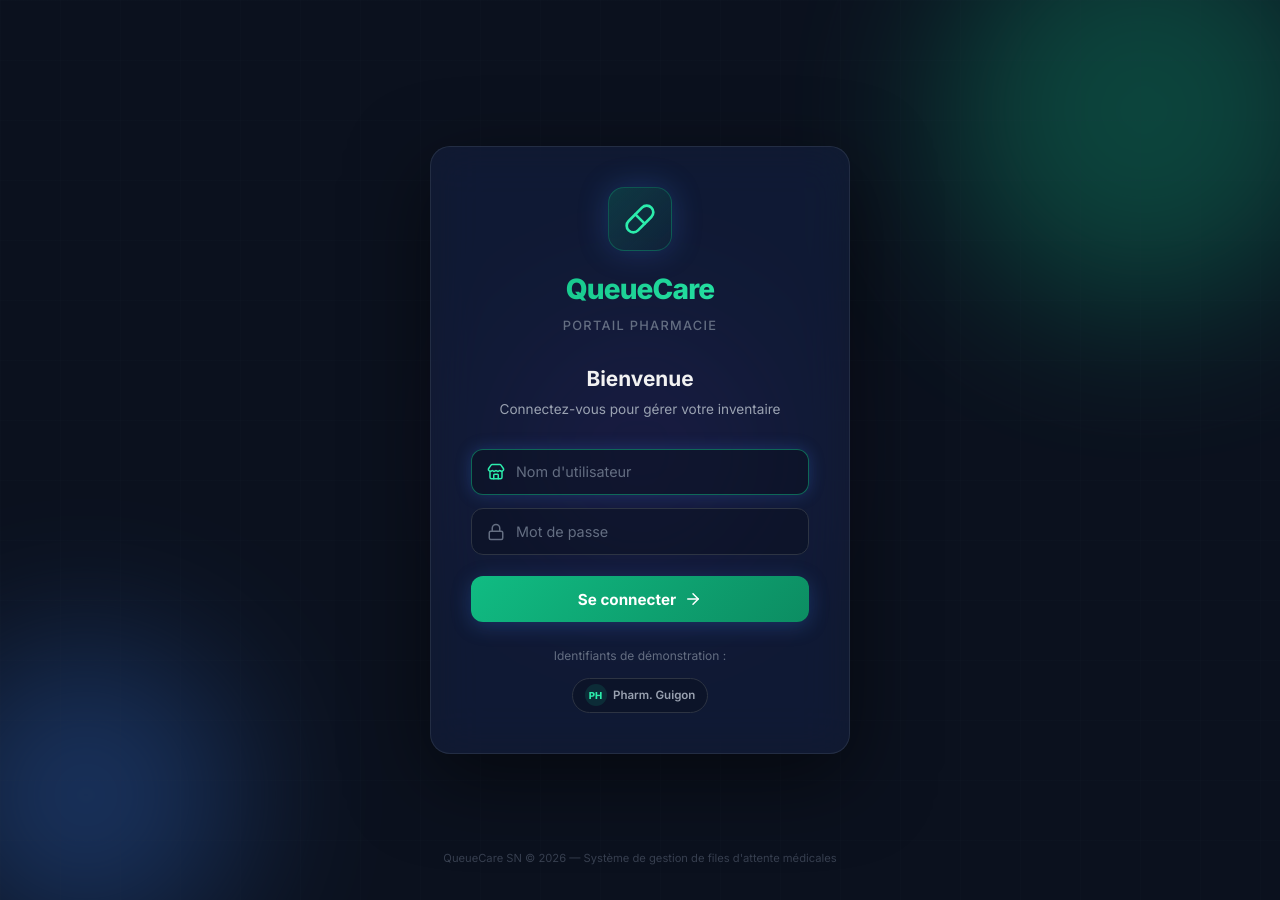
Scenario: LoginScreen (Pharmacie) › gère les erreurs réseau
Type "test" into the field with placeholder "Nom d'utilisateur" at (640, 472), box [471,449,809,495]
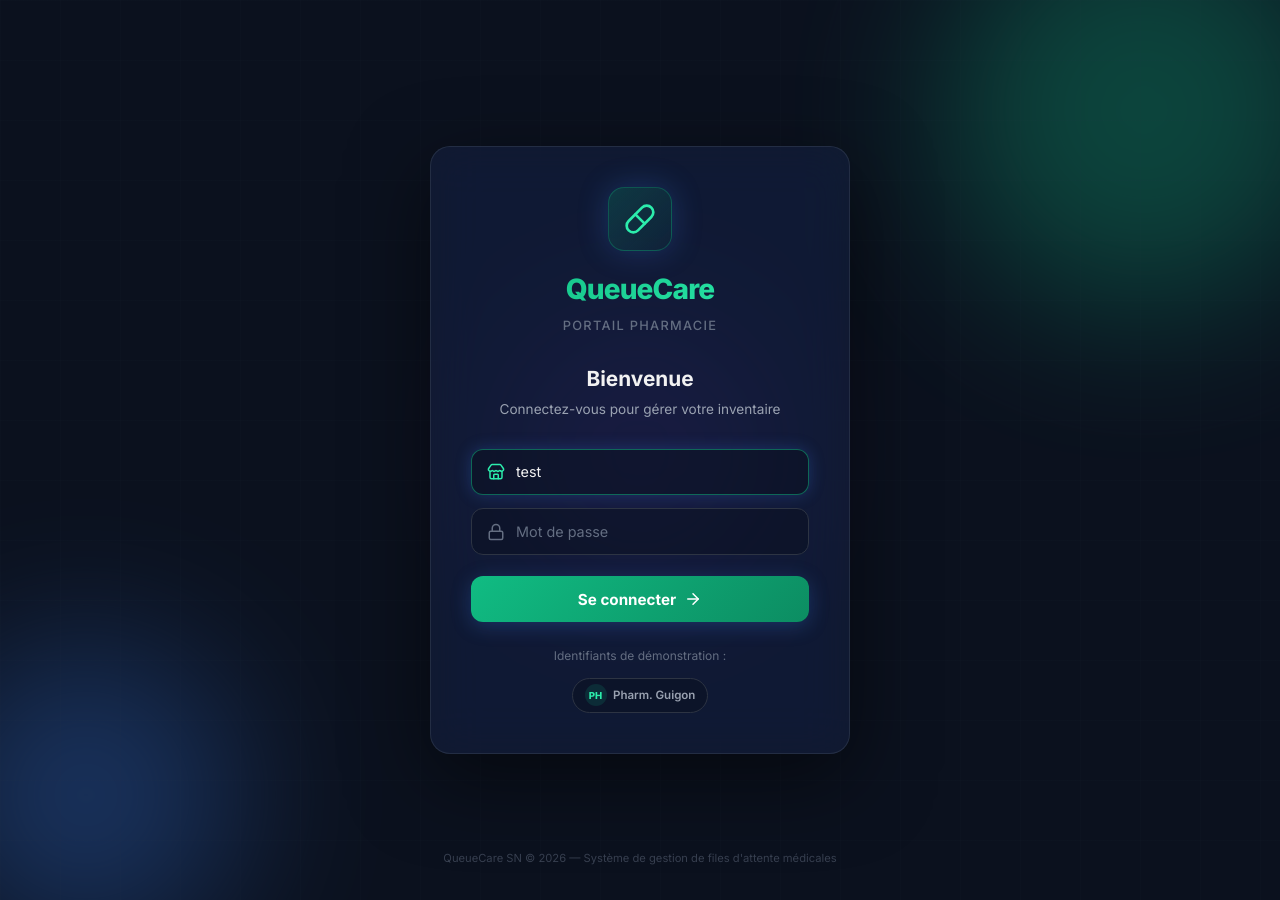
Type "test" into the password field with placeholder "Mot de passe" at (640, 532), box [471,508,809,555]
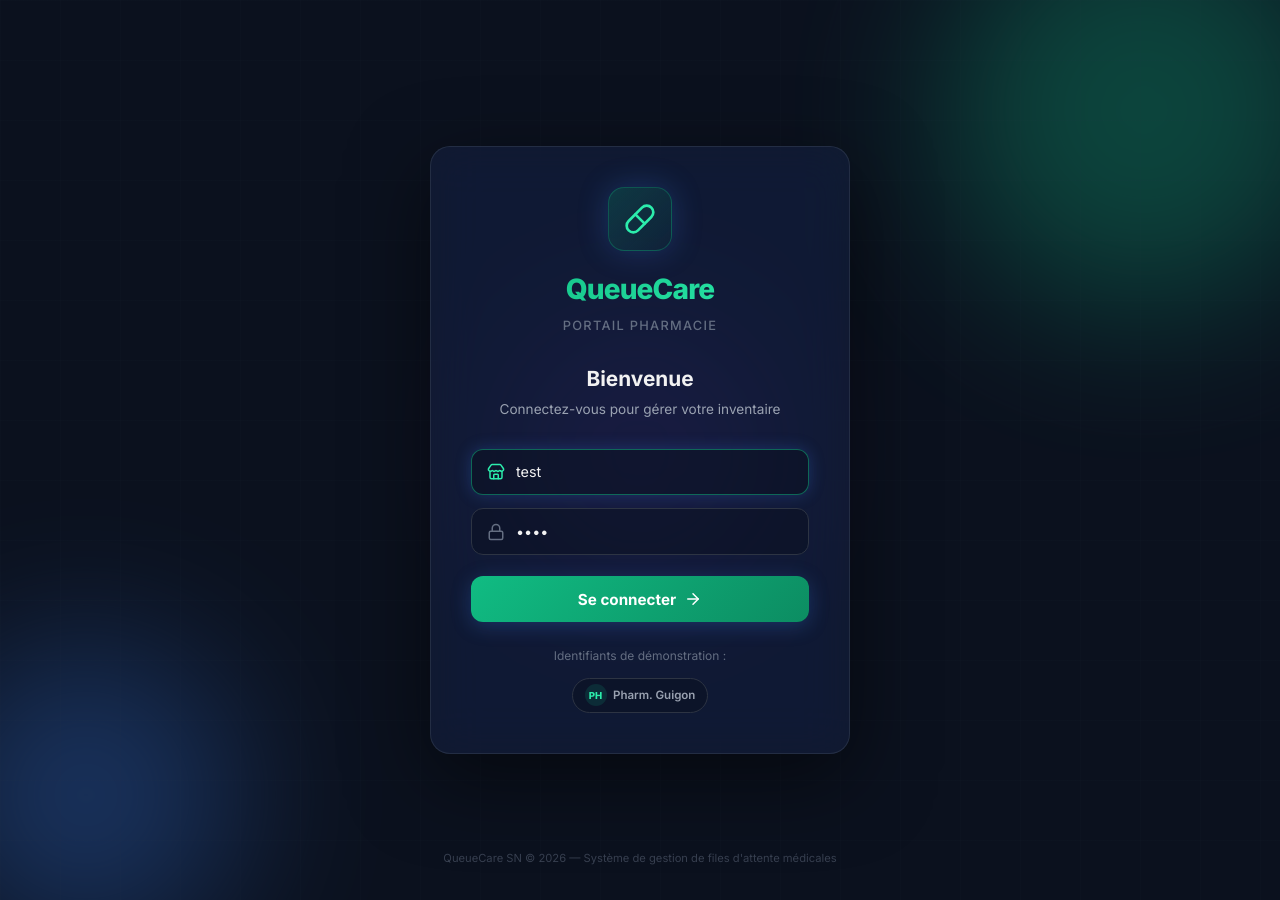
Click the button "Se connecter" at (640, 599), box [471,576,809,622]
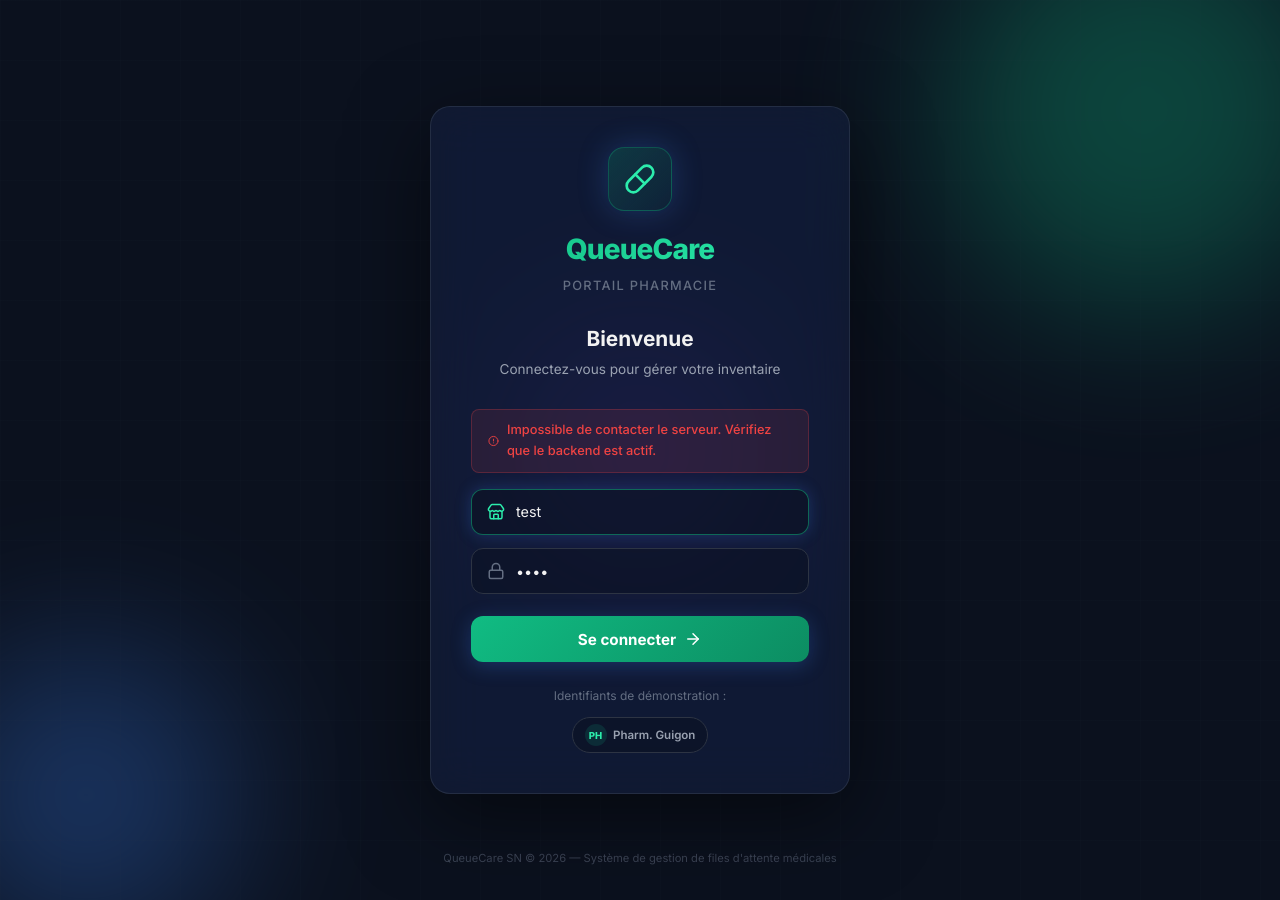
Check: the text "Impossible de contacter" is shown, box [507,422,771,458]
